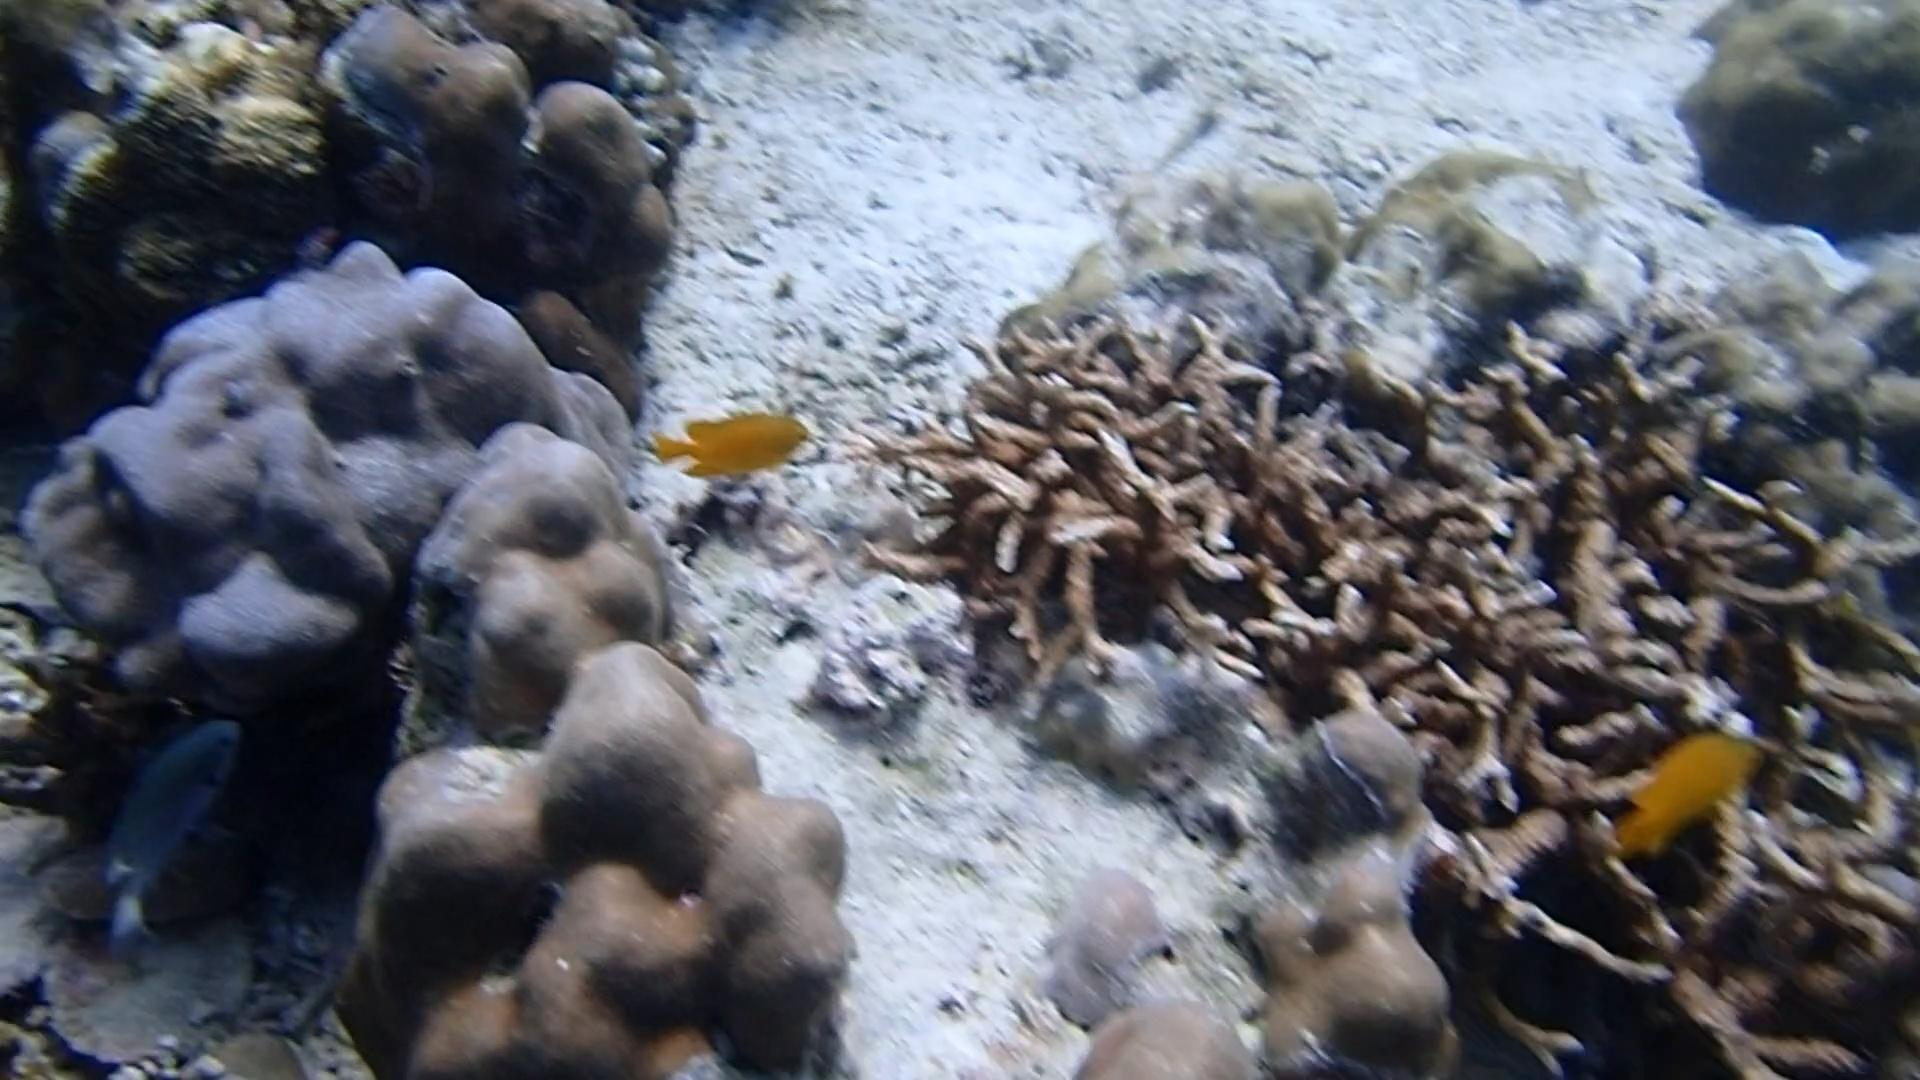Blue Fish Two: (91, 702, 249, 963)
Yellow Fish: (1597, 724, 1768, 862), (638, 396, 825, 498)
